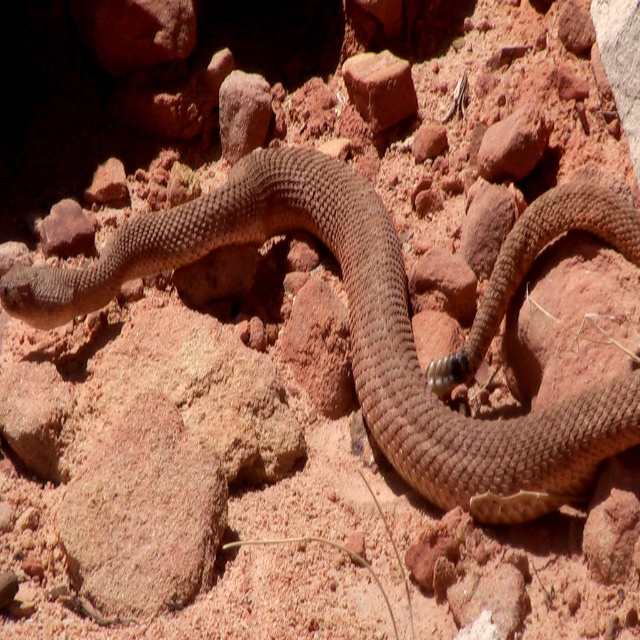Snake: (0, 146, 640, 495)
